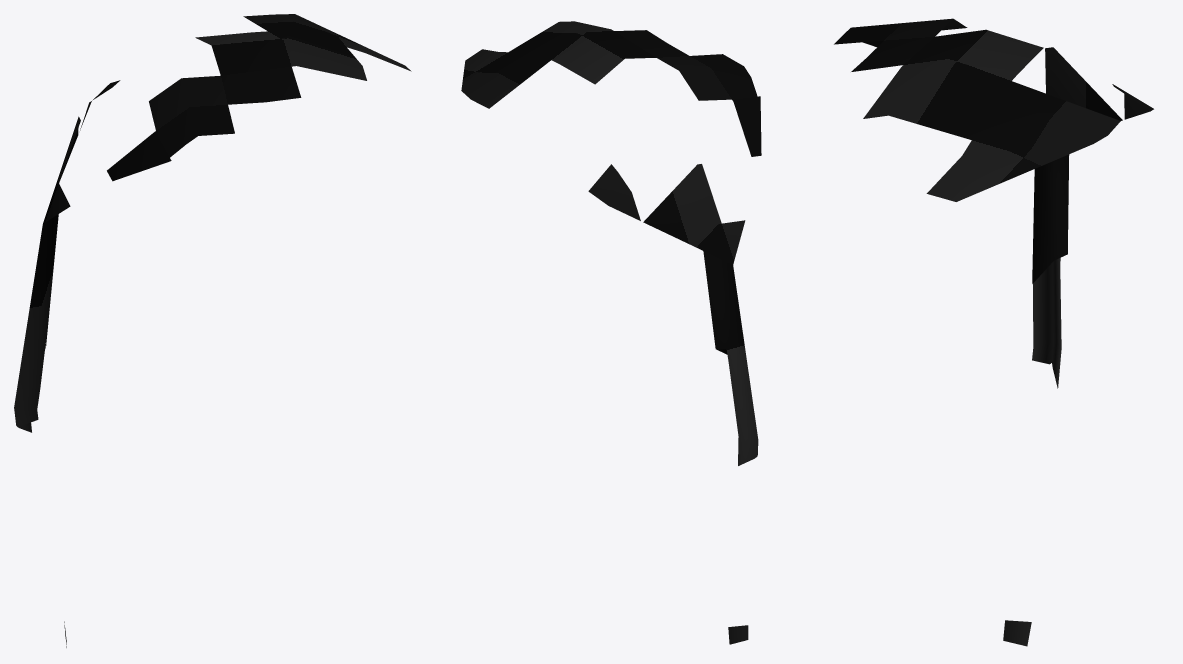
The model's file is cliffFoliage03.fbx.
3 renders of one model, left to right at view 1: azimuth 30°, elevation 25°; view 2: azimuth 150°, elevation 25°; view 3: azimuth 270°, elevation 25°, orthographic. The views are drawn at different scales.
Parts seen in each view (by area): view 1: polySurface39; view 2: polySurface39; view 3: polySurface39.
Boxes of the visible parts, bbox=[...] form: polySurface39: bbox=[14, 14, 411, 647]; polySurface39: bbox=[461, 21, 761, 644]; polySurface39: bbox=[834, 18, 1153, 646].
Size of the model in its own units: 0.5679 by 0.897 by 0.4425.
